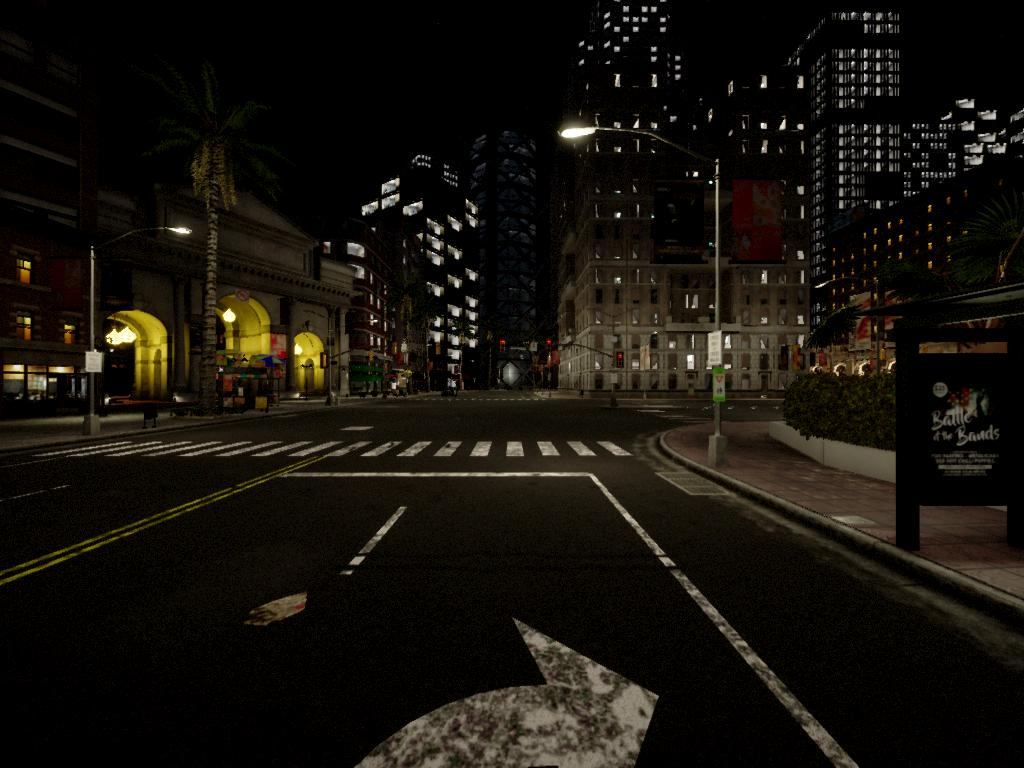traffic_light: (616, 352, 624, 368), (546, 339, 553, 354), (500, 340, 507, 352)
